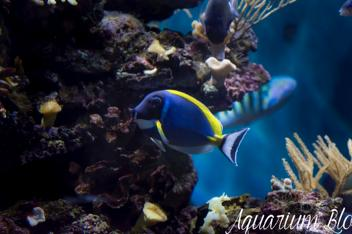Acanthuridae -Surgeonfishes-: (130, 88, 251, 172)
